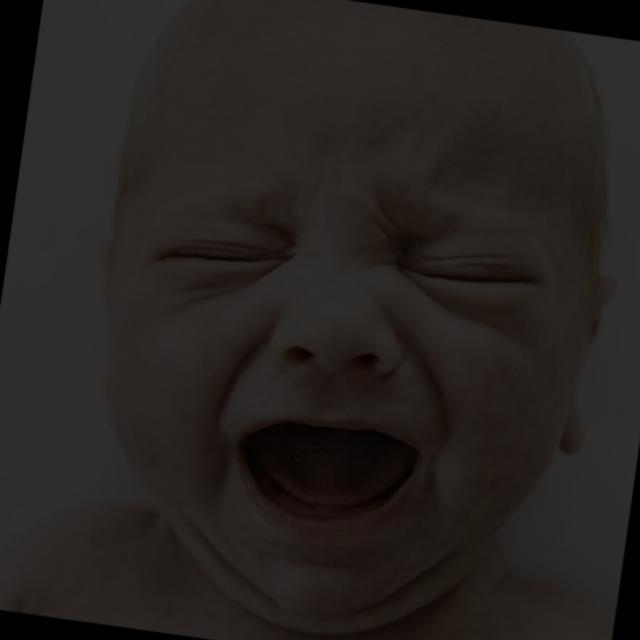Sad: (113, 105, 565, 558)
